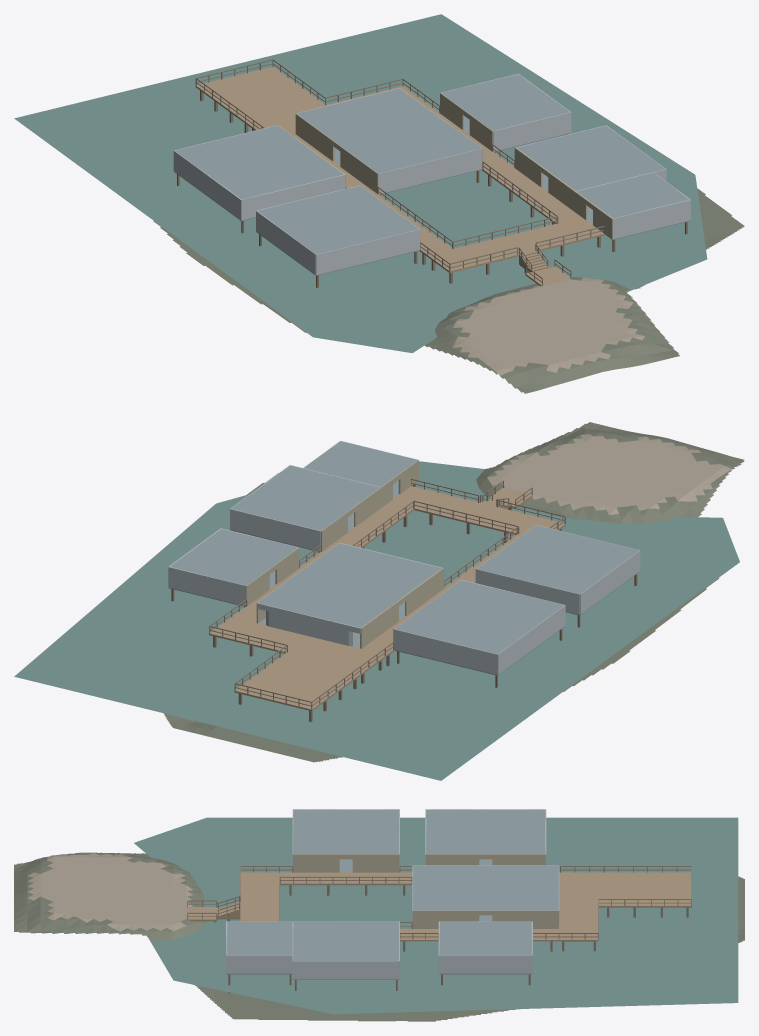
The model's file is canyon-marsh.glb.
The picture shows the model from 3 angles, top to bottom: view 1: azimuth 30°, elevation 25°; view 2: azimuth 150°, elevation 25°; view 3: azimuth 270°, elevation 25°; orthographic projection. The views are drawn at different scales.
Parts seen in each view (by area): view 1: Mourning Marsh floodwater review surface, WLD-11 saved ground, Mourning Marsh continuous settlement boardwalk region0, Ceiling cap warehouse, Ceiling cap chapel, Ceiling cap house-a, Ceiling cap house-b, Ceiling cap shack, Ceiling cap pump, Wall house-a S, Wall warehouse S, Wall pump S (+6 smaller); view 2: Mourning Marsh floodwater review surface, WLD-11 saved ground, Mourning Marsh continuous settlement boardwalk region0, Ceiling cap warehouse, Ceiling cap chapel, Ceiling cap house-a, Ceiling cap house-b, Ceiling cap shack, Ceiling cap pump, Wall chapel N, Flat route shell Wall warehouse N, Wall house-b N (+6 smaller); view 3: Mourning Marsh floodwater review surface, WLD-11 saved ground, Mourning Marsh continuous settlement boardwalk region0, Ceiling cap warehouse, Ceiling cap chapel, Ceiling cap house-a, Ceiling cap house-b, Ceiling cap shack, Ceiling cap pump, Wall house-b E, Wall shack E, Wall pump E (+7 smaller).
Part boxes in pixels (x1,y1,x2,y2): Mourning Marsh floodwater review surface: (14,14,707,353); WLD-11 saved ground: (153,188,744,393); Mourning Marsh continuous settlement boardwalk region0: (195,66,605,272); Ceiling cap warehouse: (296,88,481,173); Ceiling cap chapel: (174,125,343,199); Ceiling cap house-a: (258,185,418,254); Ceiling cap house-b: (516,125,665,190); Ceiling cap shack: (441,74,569,130); Ceiling cap pump: (577,172,688,218); Wall house-a S: (316,229,420,274); Wall warehouse S: (378,148,482,193); Wall pump S: (612,199,690,239); Mourning Marsh floodwater review surface: (14,461,739,780); WLD-11 saved ground: (163,422,744,762); Mourning Marsh continuous settlement boardwalk region0: (209,486,565,711); Ceiling cap warehouse: (258,543,442,627); Ceiling cap chapel: (394,580,564,654); Ceiling cap house-a: (477,525,639,594); Ceiling cap house-b: (231,465,380,530); Ceiling cap shack: (170,529,297,585); Ceiling cap pump: (304,441,417,486); Wall chapel N: (394,629,497,674); Flat route shell Wall warehouse N: (257,603,360,646); Wall house-b N: (230,509,320,551); Mourning Marsh floodwater review surface: (134,817,738,1014); WLD-11 saved ground: (14,852,744,1021); Mourning Marsh continuous settlement boardwalk region0: (240,872,691,941); Ceiling cap warehouse: (412,866,558,910); Ceiling cap chapel: (426,809,545,854); Ceiling cap house-a: (293,809,399,854); Ceiling cap house-b: (293,921,399,960); Ceiling cap shack: (439,921,532,955); Ceiling cap pump: (226,921,292,955); Wall house-b E: (293,961,399,979); Wall shack E: (439,955,532,973); Wall pump E: (226,955,292,973).
Bounding box in the file's own units: 70 × 7.53 × 110.
